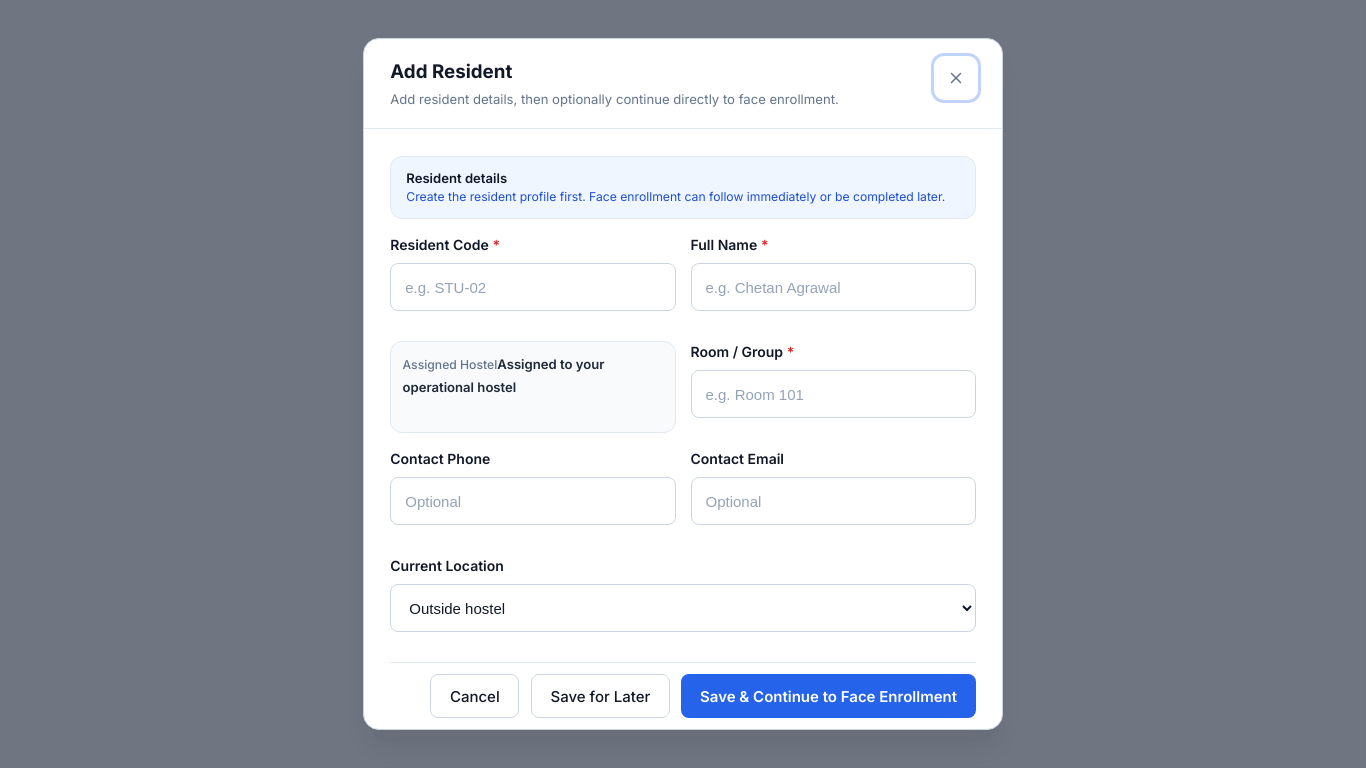
Test: Resident Operations & Modals › Create Resident Workflow › displays backend 409 conflict when resident code already exists in organization
Step 1. Type "R101" into the field labelled "Resident Code*" → [533, 287], box [390,263,676,311]
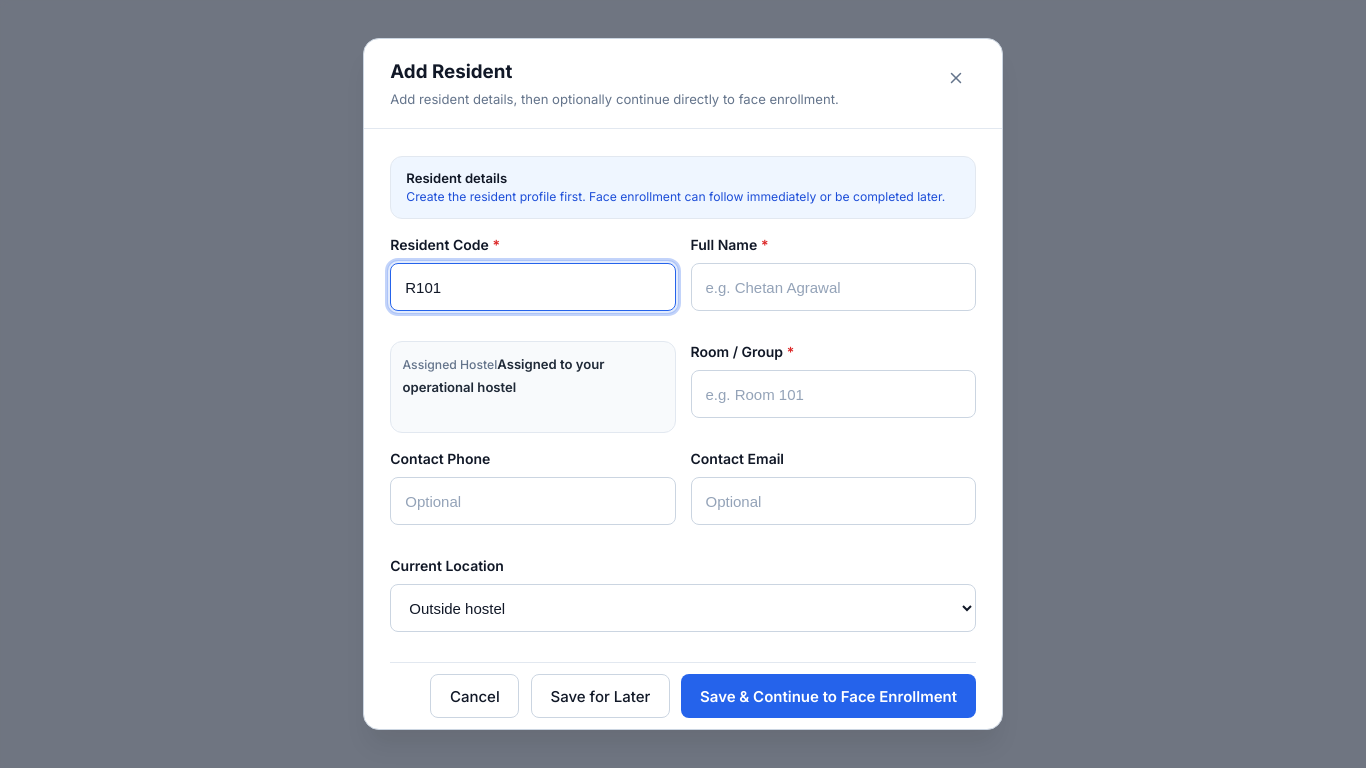
Step 2. Type "Room 101" into the field labelled "Room / Group*" → [833, 394], box [690,370,976,418]
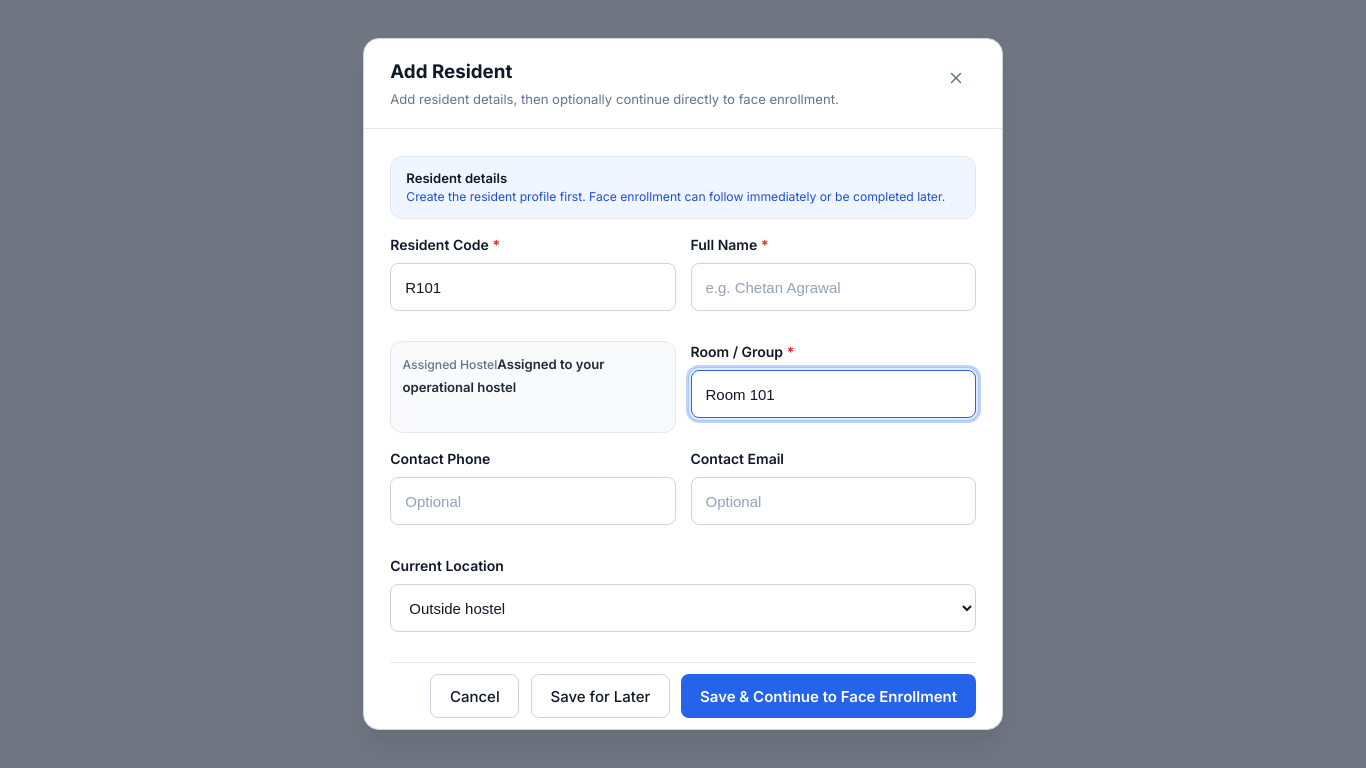
Step 3. Type "Duplicate Test" into the field labelled "Full Name*" → [833, 287], box [690,263,976,311]
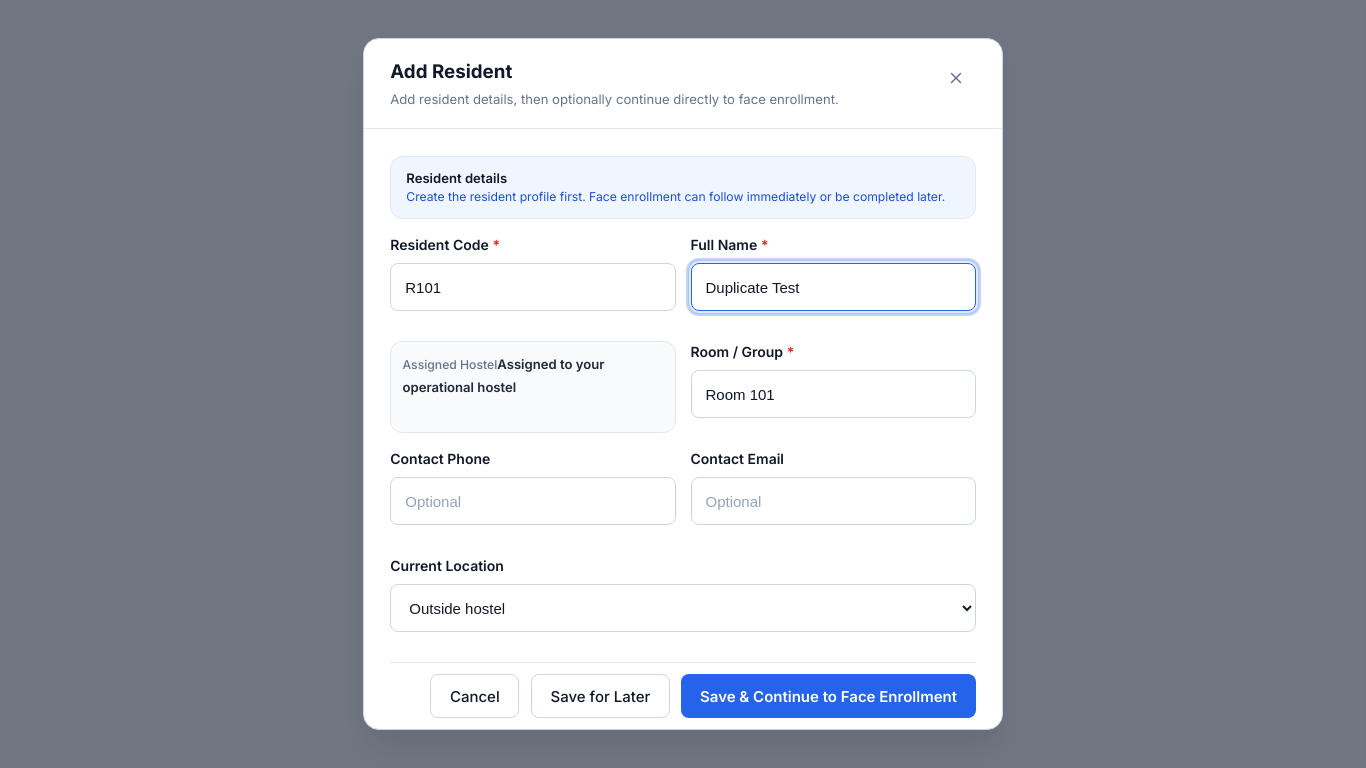
Step 4. Click the button with aria-label "create resident" → [600, 696], box [531,674,670,718]
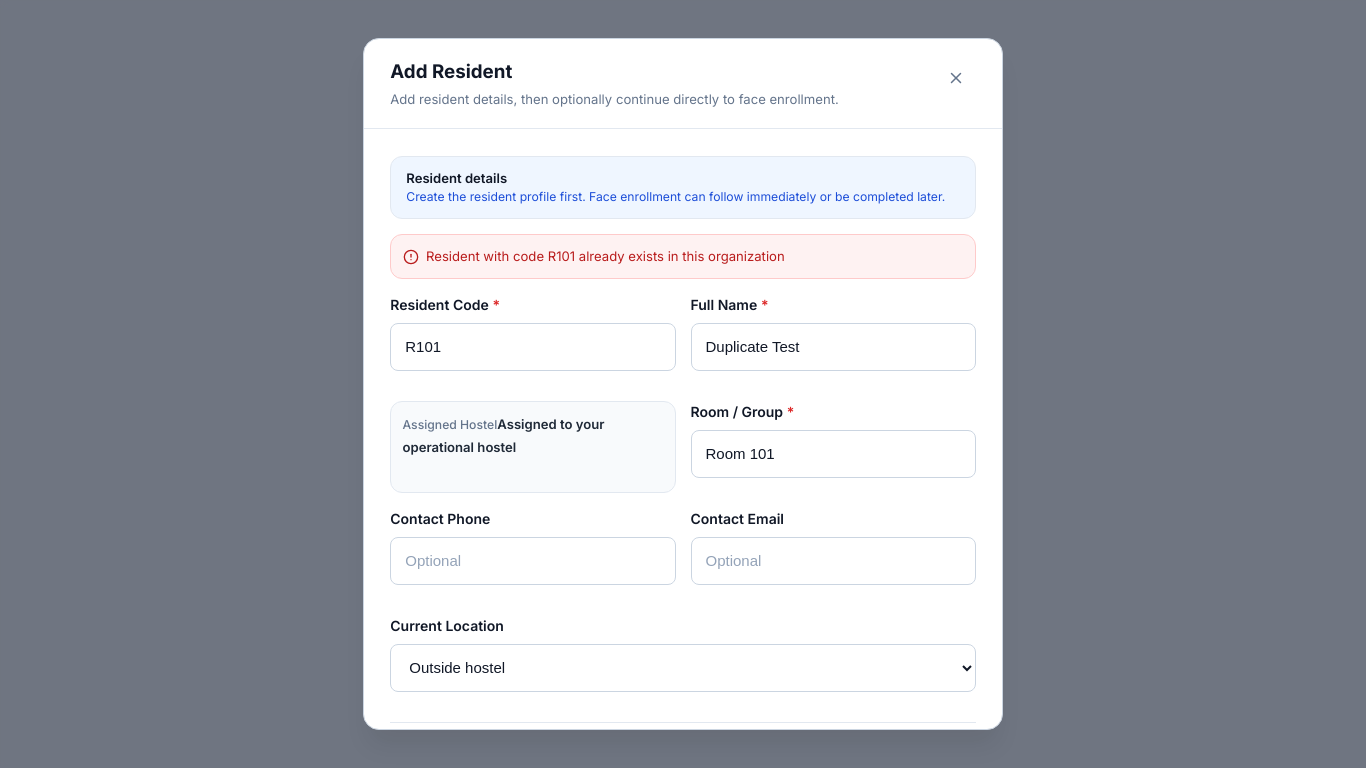
Check: the text "Resident with code R101 already exists in this organization" is shown, box [426,246,785,267]
